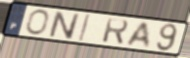9: (155, 22, 181, 52)
A: (125, 21, 152, 49)
I: (78, 13, 92, 42)
N: (48, 10, 81, 41)
O: (24, 9, 50, 37)
R: (100, 17, 130, 47)
